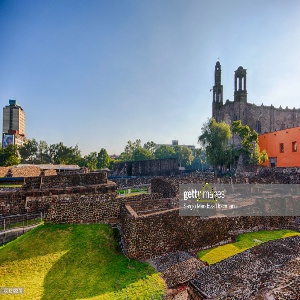triangle: (196, 181, 218, 203)
